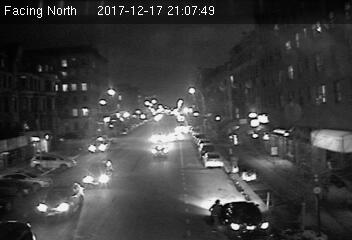car: (216, 195, 273, 239), (36, 182, 86, 220), (82, 159, 115, 189), (202, 152, 223, 169), (150, 144, 168, 159)
